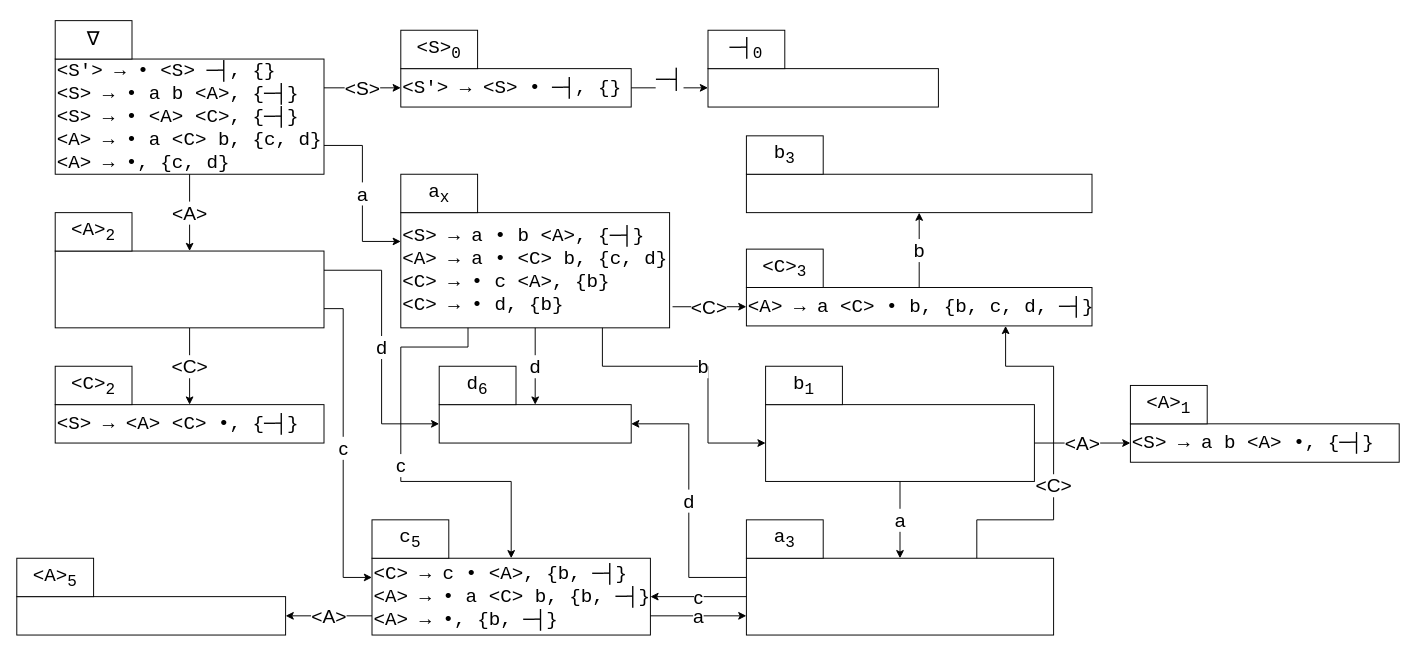
This 1416x659 diagram has some shape labels left out. The centre of each missing label's shape, as x and y in pixels:
<A> → a <C> b •, {c, d, ─┤}: [918,193]
<A> → a • <C> b, {b, ─┤} <C> → • c <A>, {b} <C> → • d, {b}: [899,596]
<C> → c <A> •, {b, ─┤}: [151,615]
<C> → d •, {b}: [534,423]
<S'> → <S> ─┤ •, {}: [822,87]
<S> → <A> • <C>, {─┤} <C> → • c <A>, {─┤} <C> → • d, {─┤}: [189,289]
<S> → a b • <A>, {─┤} <A> → • a <C> b, {─┤} <A> → •, {─┤}: [899,442]
